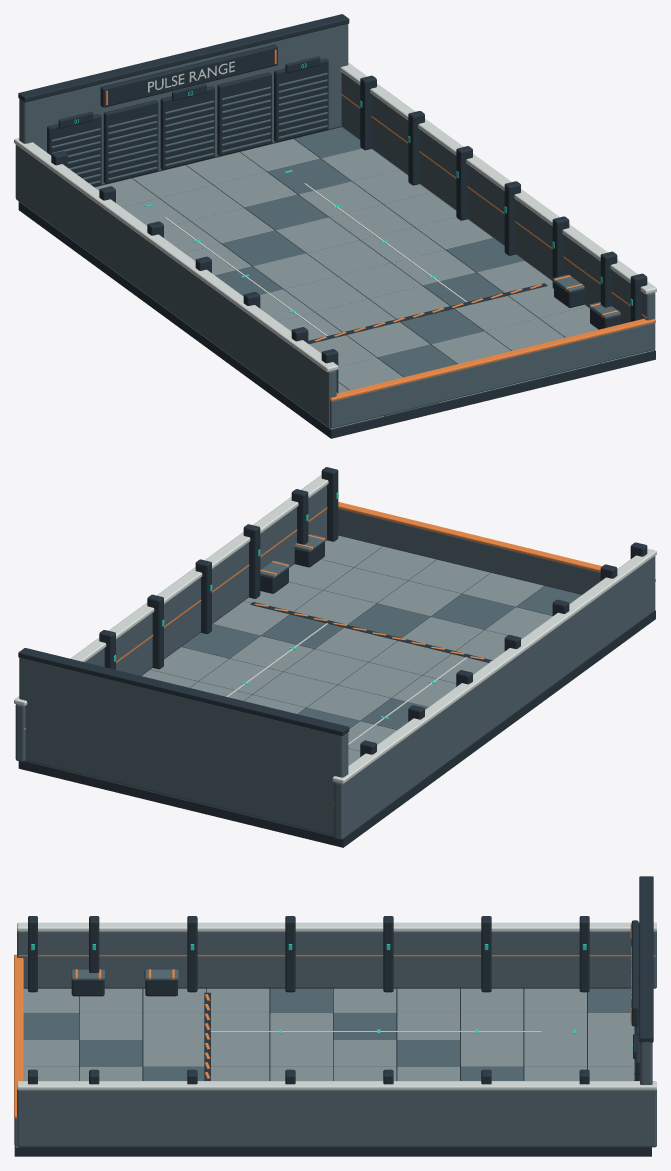
3 views of the same model, one above another, from view 1: azimuth 30°, elevation 25°; view 2: azimuth 150°, elevation 25°; view 3: azimuth 270°, elevation 25° (orthographic).
Visible parts, largest first — view 1: Courtyard; view 2: Courtyard; view 3: Courtyard.
Part boxes in pixels (left/top/right/bottom): Courtyard: left=14, top=14, right=656, bottom=438; Courtyard: left=14, top=467, right=656, bottom=847; Courtyard: left=14, top=876, right=656, bottom=1156.
Bounding box in the file's own units: 15.86 × 5.36 × 26.23.
